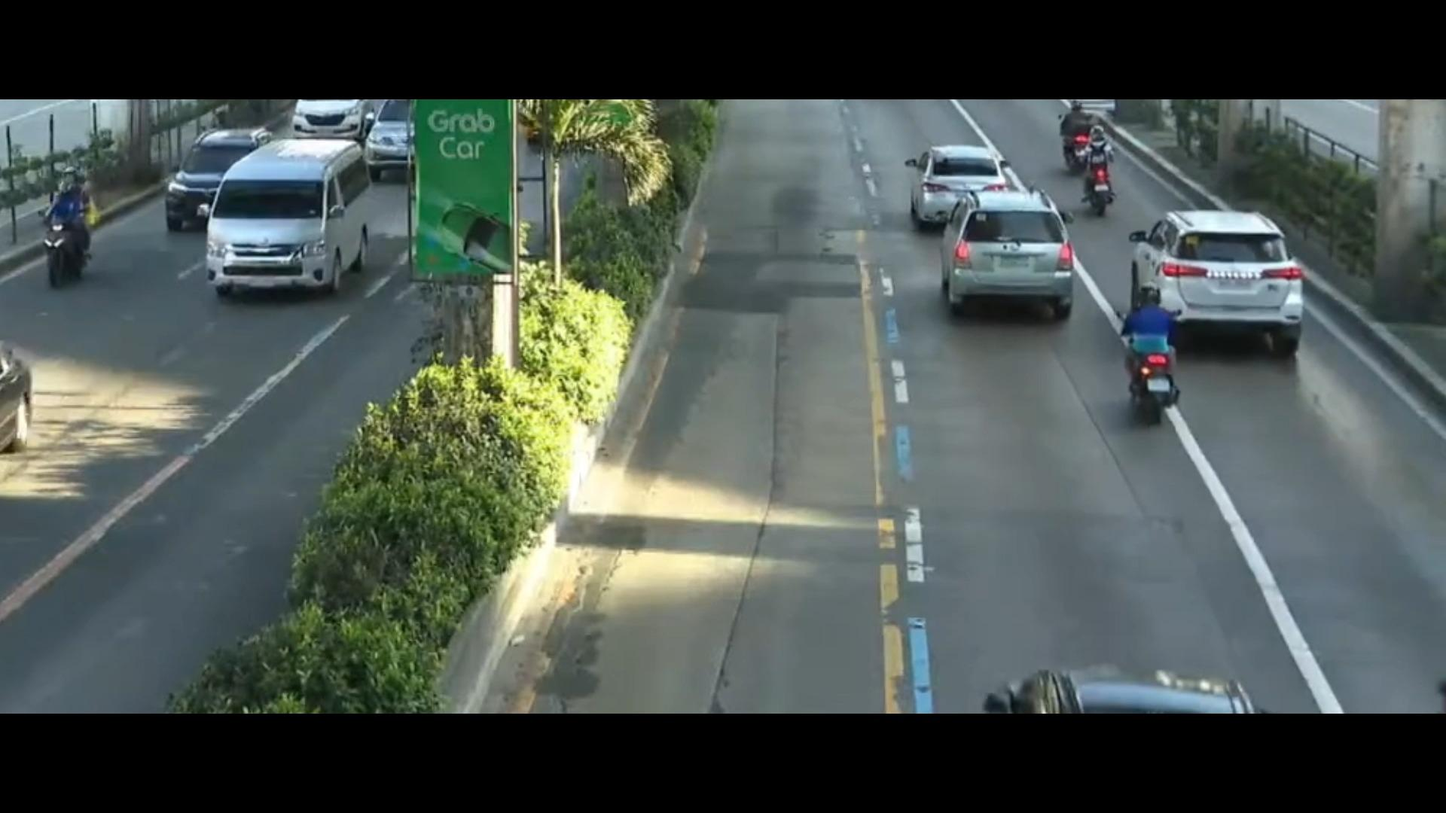Motorcycle: (1110, 269, 1224, 429), (32, 136, 119, 296), (1074, 121, 1147, 217), (1042, 87, 1108, 170)
SUV: (1121, 211, 1340, 361), (914, 174, 1091, 338), (155, 111, 300, 233)
Sedan: (904, 126, 1032, 221)
Van: (191, 130, 396, 310)
